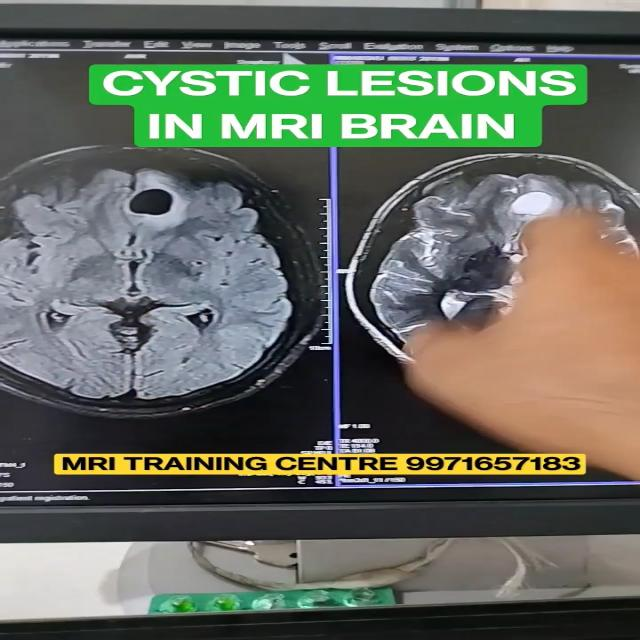tumor: (108, 172, 208, 228), (504, 187, 582, 234)
